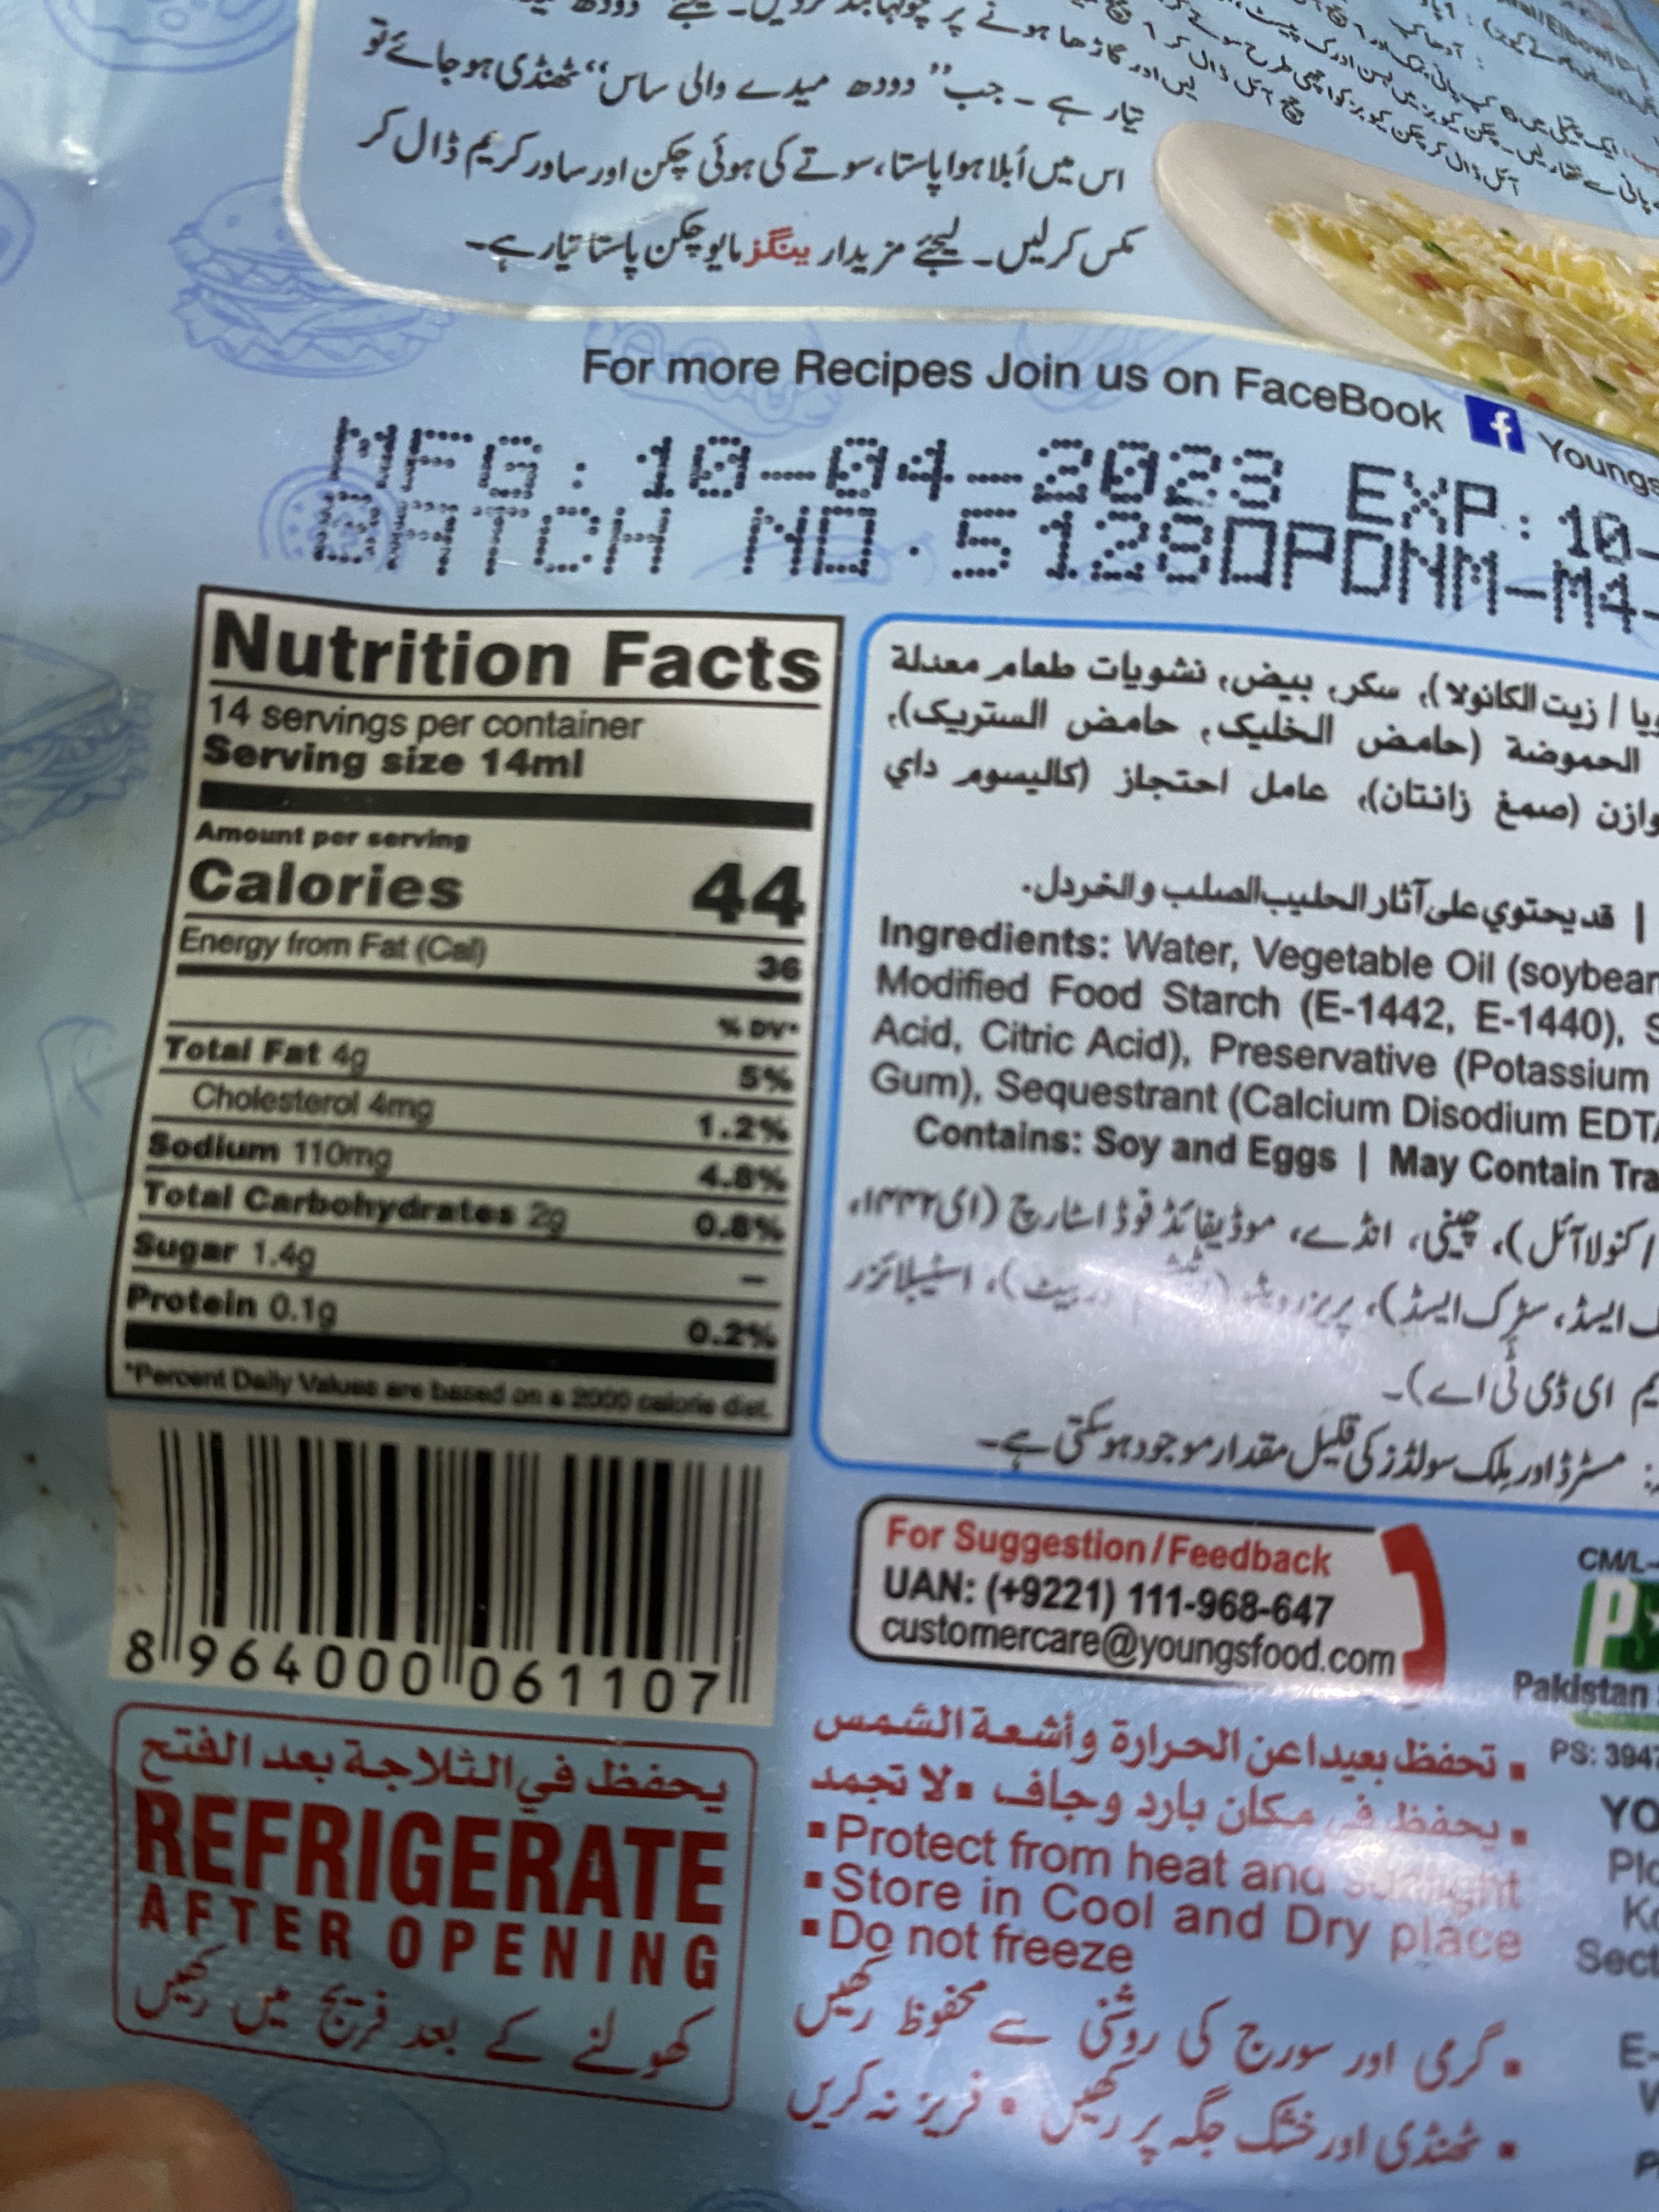table: (92, 566, 823, 1447)
